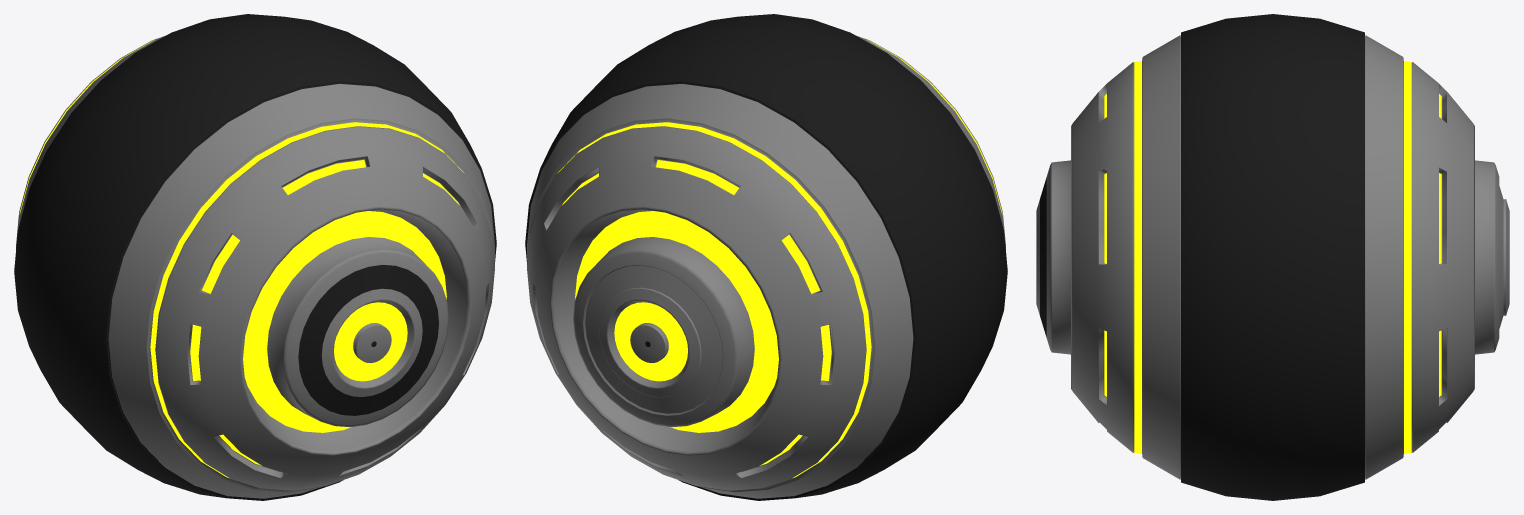
File: Kyklos 2.fbx
3 renders of one model, left to right at view 1: azimuth 30°, elevation 25°; view 2: azimuth 150°, elevation 25°; view 3: azimuth 270°, elevation 25°, orthographic.
Visible parts, largest first — view 1: Sphere, Sphere.001; view 2: Sphere, Sphere.001; view 3: Sphere, Sphere.001.
Part boxes in pixels (x1=…): Sphere: x1=14, y1=14, x2=496, y2=500; Sphere.001: x1=16, y1=35, x2=494, y2=490; Sphere: x1=525, y1=14, x2=1007, y2=500; Sphere.001: x1=527, y1=35, x2=1005, y2=490; Sphere: x1=1036, y1=14, x2=1509, y2=500; Sphere.001: x1=1071, y1=62, x2=1474, y2=452.
Bounding box in the file's own units: 1 × 1 × 0.9716.
